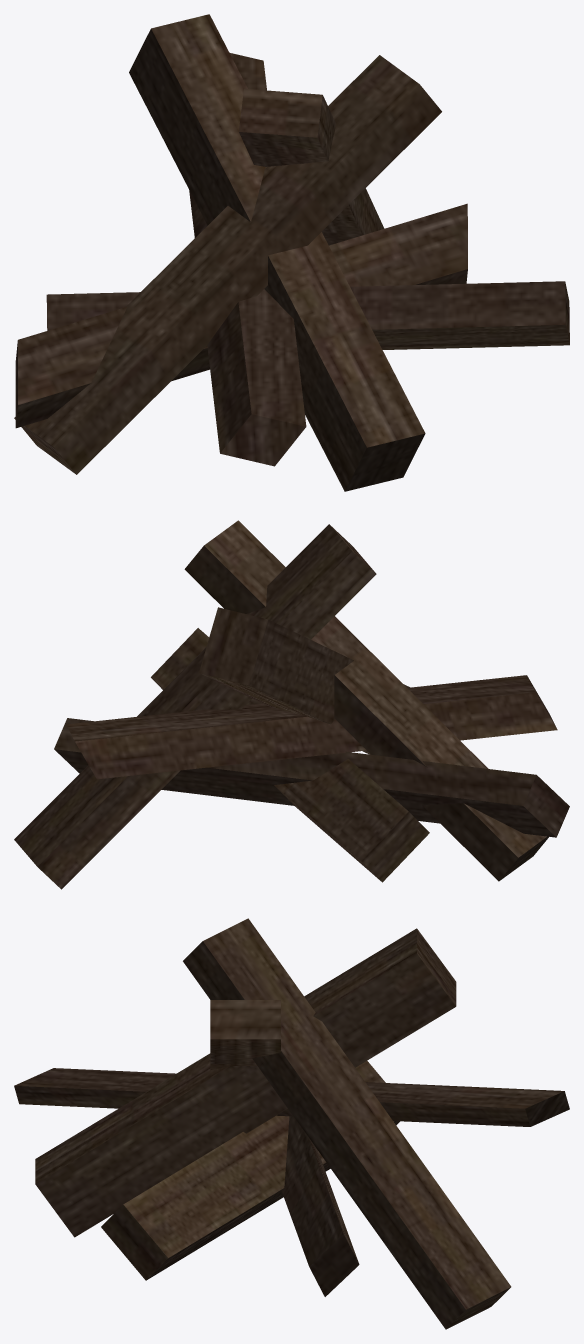
Rendered from Fogueira - 01 .fbx.
3 renders of one model, top to bottom at view 1: azimuth 30°, elevation 25°; view 2: azimuth 150°, elevation 25°; view 3: azimuth 270°, elevation 25°, orthographic. The views are drawn at different scales.
Visible parts, largest first — view 1: Cubo; view 2: Cubo; view 3: Cubo.
Part boxes in pixels (x1,y1,x2,y2): Cubo: (14, 14, 569, 491); Cubo: (14, 520, 569, 889); Cubo: (14, 918, 569, 1329).
Bounding box in the file's own units: 65.68 × 40.96 × 68.35.
1 material, 1 textured.
